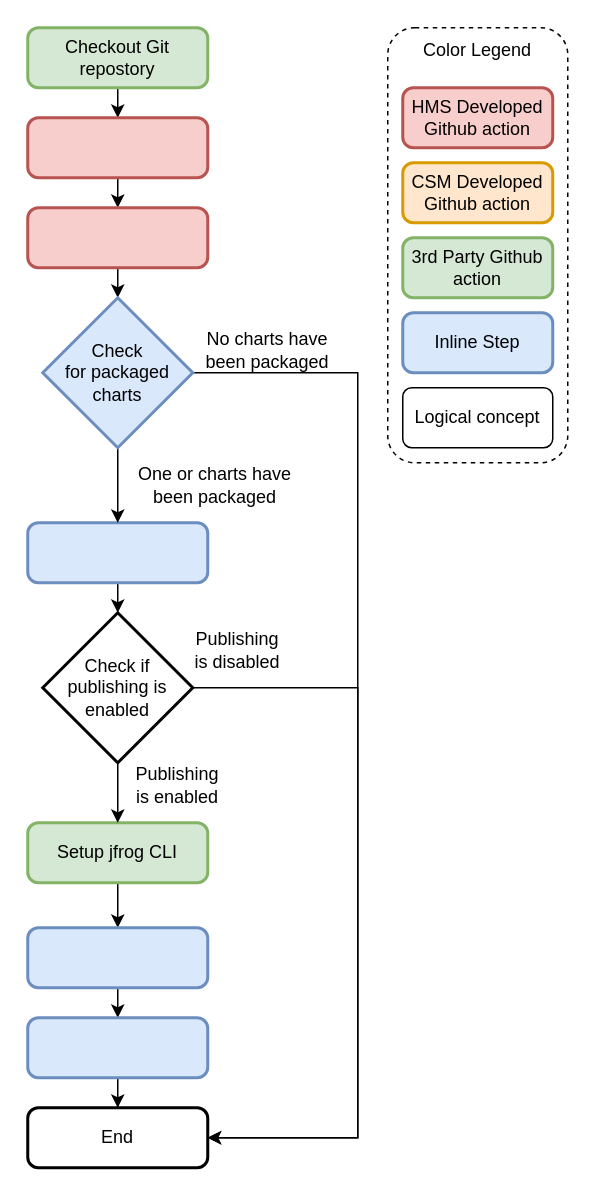
The diagram is 594 pixels wide and 1194 high, and some of its shapes have lost their labels. Here are the shapes that lost their labels. From the top down, the box of each, then its label:
(26, 116, 208, 178): Generate build metadata
(26, 206, 208, 268): Build Changed charts
(26, 520, 208, 584): Create Git tags for changed charts
(26, 926, 208, 988): Verify connectivity to Artifactory
(26, 1016, 208, 1078): Publish Helm charts to artifactory
